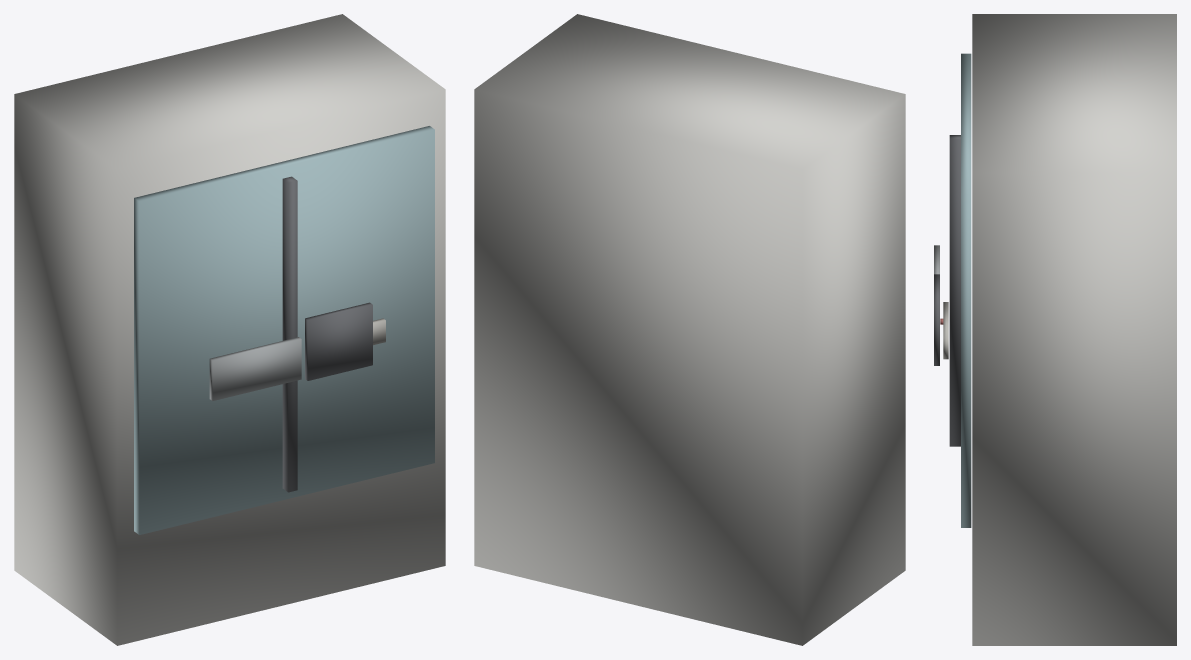
Rendered from refrigerated_display_case__weathered.glb.
3 renders of one model, left to right at view 1: azimuth 30°, elevation 25°; view 2: azimuth 150°, elevation 25°; view 3: azimuth 270°, elevation 25°, orthographic.
Visible parts, largest first — view 1: world; view 2: world; view 3: world.
Boxes of the visible parts, bbox=[...] form: world: bbox=[14, 14, 445, 645]; world: bbox=[474, 14, 905, 645]; world: bbox=[934, 14, 1176, 645].
Size of the model in its own units: 1.25 by 1.73 by 0.8068.
